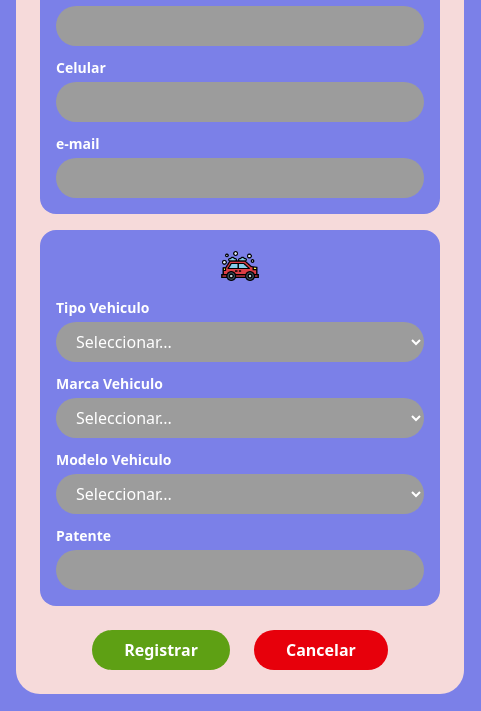
it: NuevoClientePage › la patente se formatea mientras se tipea
(page scrolled)
In the field labelled "Patente": (240, 570) 56,550 -> 424,590, type "ab254mc"
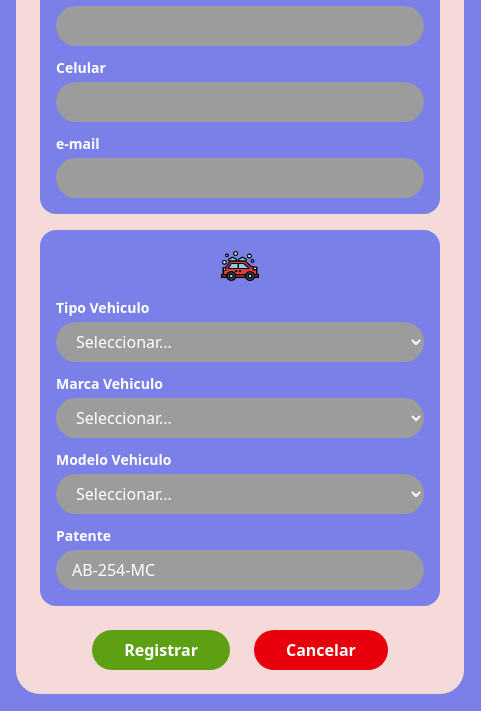
Result: the field labelled "Patente" holds "AB-254-MC" at 56,550 -> 424,590
